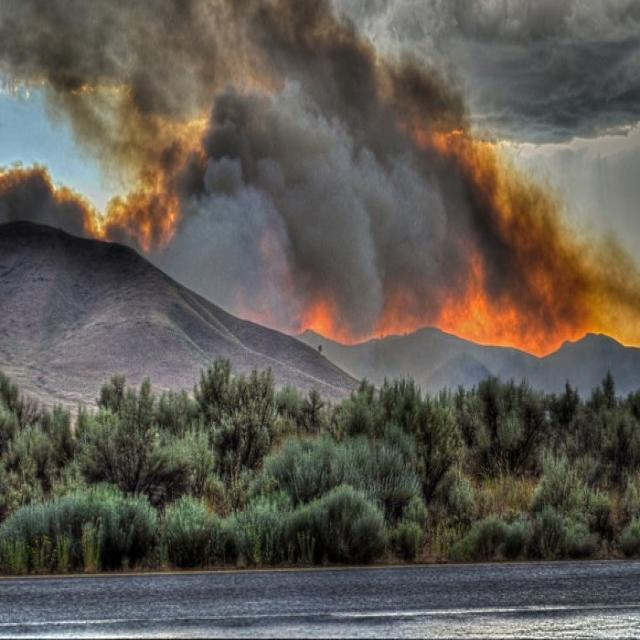Fire: (437, 260, 580, 356), (296, 298, 343, 345)
Smoke: (8, 9, 636, 364), (32, 0, 477, 334), (116, 169, 302, 322), (294, 90, 391, 320)
